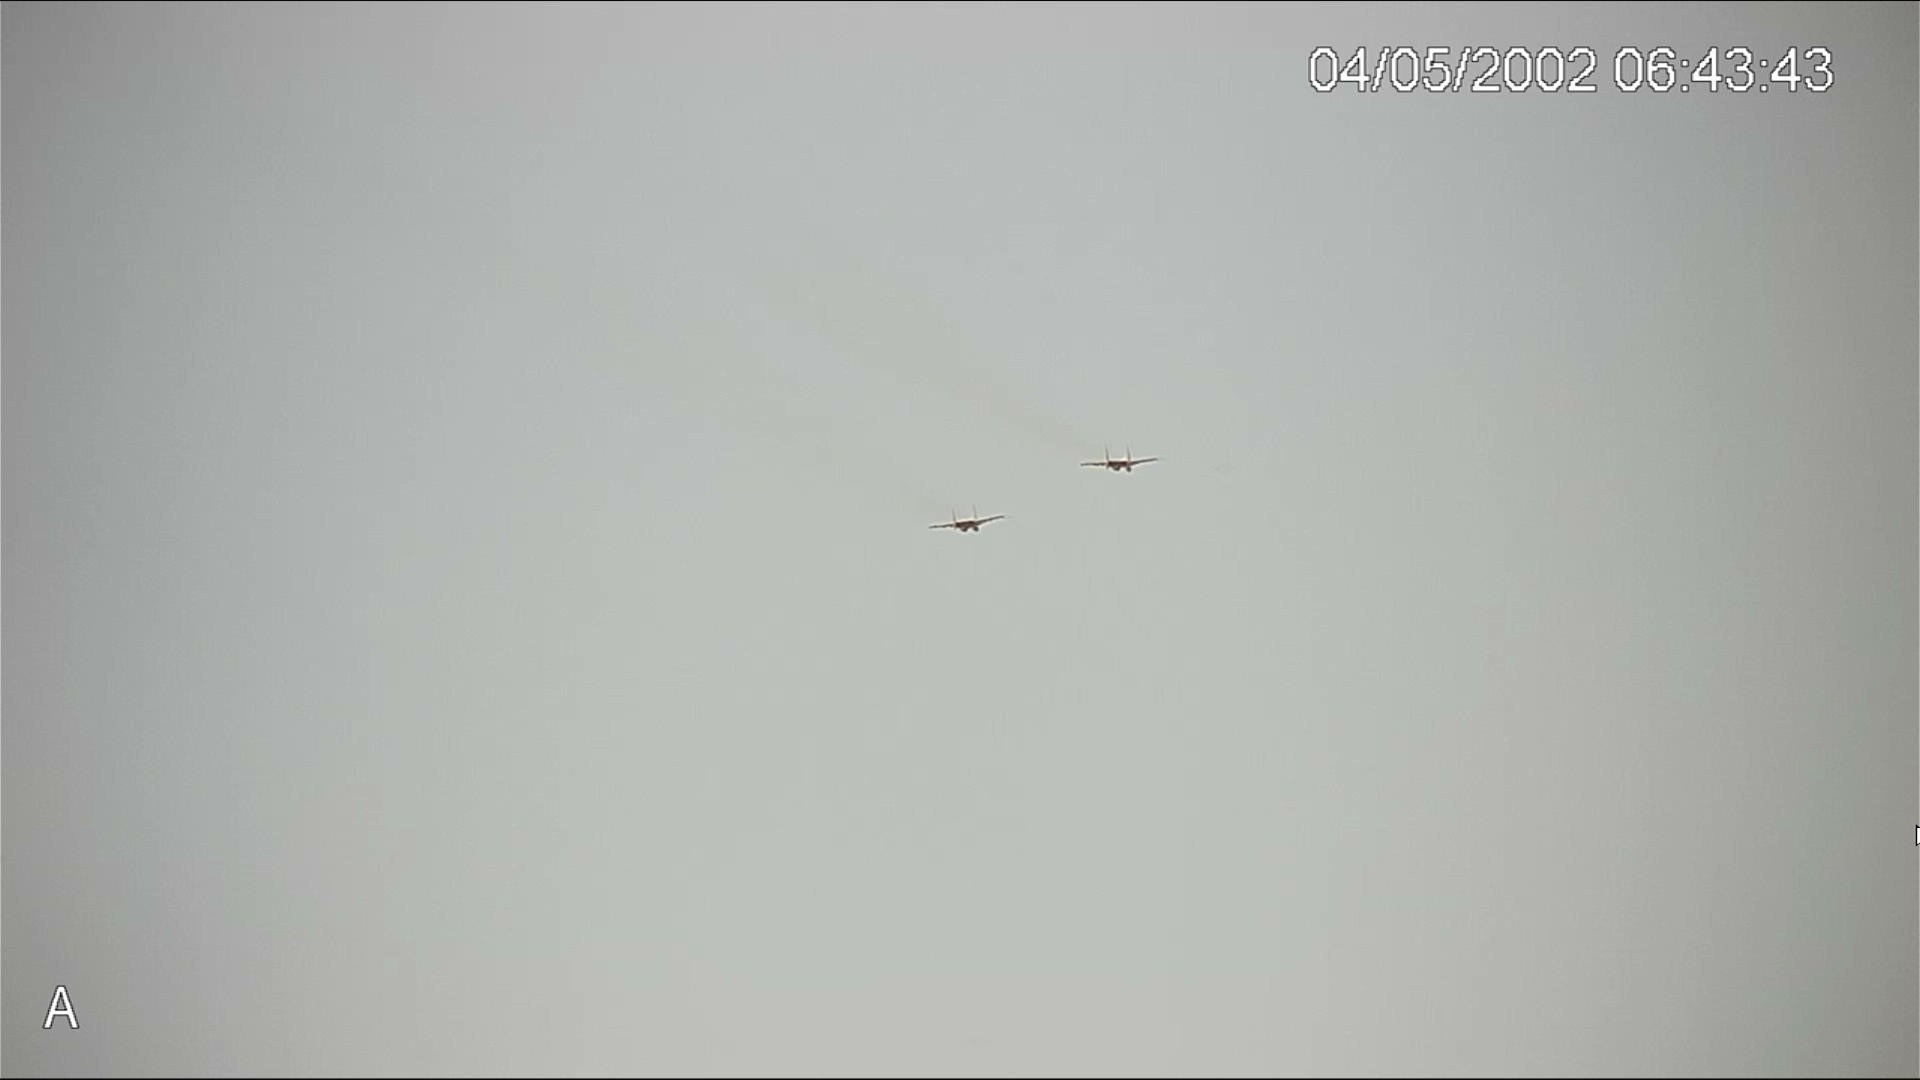SU_30: (1083, 444, 1170, 483), (920, 502, 1013, 537)
